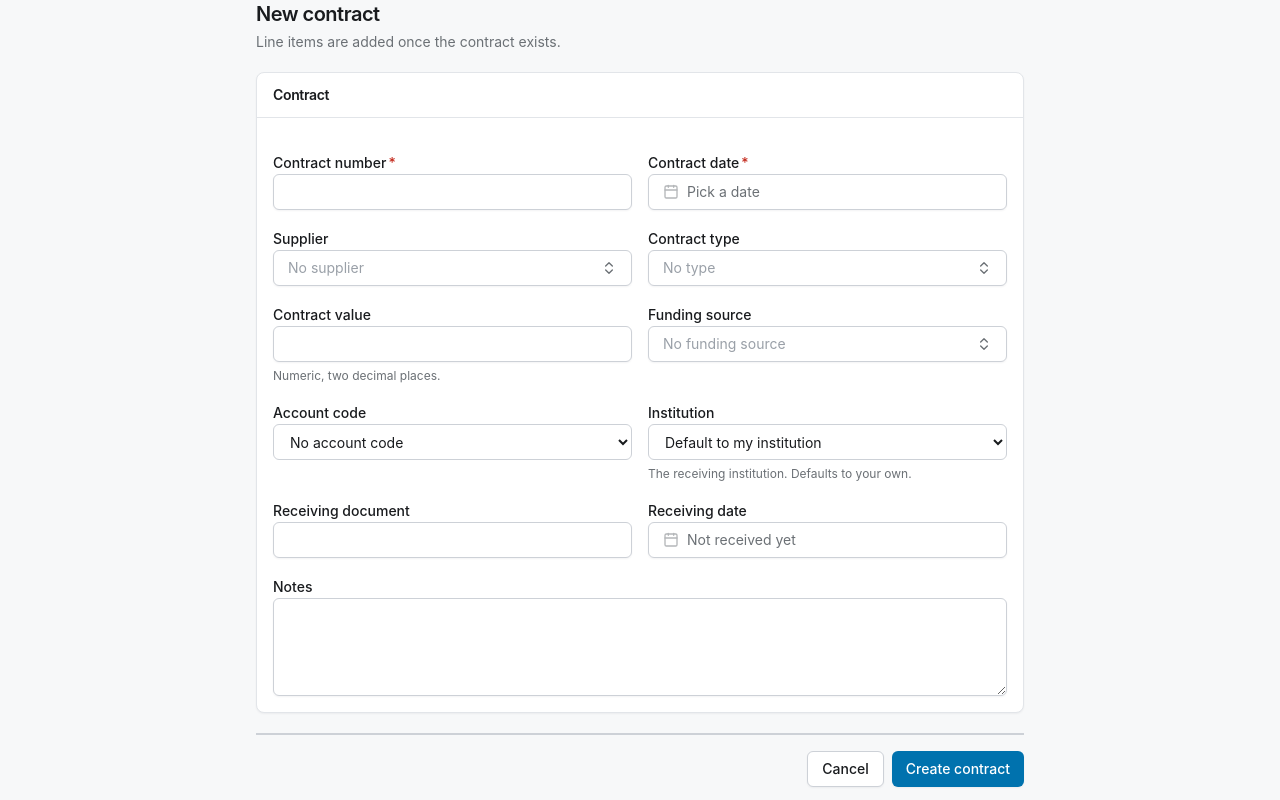
Test: ContractFormPage › offers no create affordance to a caller who may only read the lookup
Click the dropdown named "contract type": [689, 268] box [648, 250, 1007, 286]
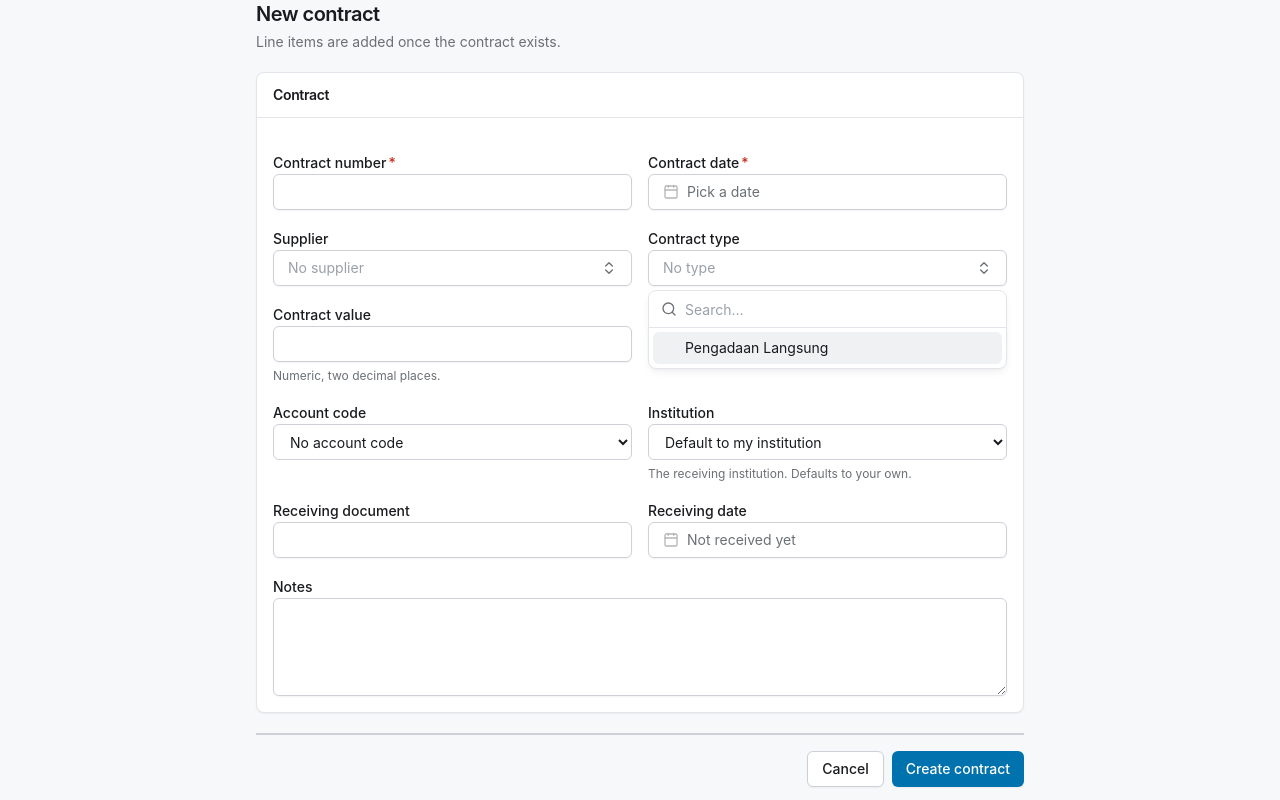
expect the text "Pengadaan Langsung" is shown: met, box [685, 338, 828, 358]
